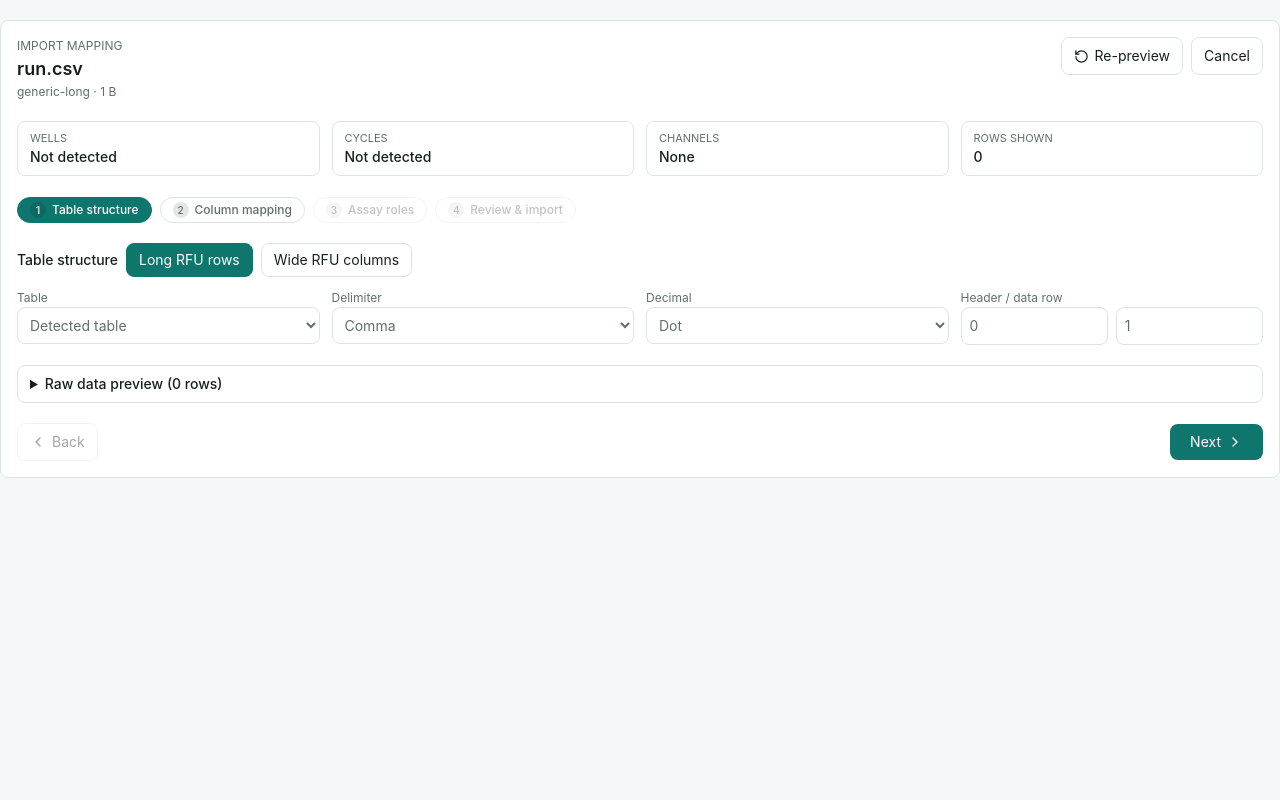
ImportMappingWizard (guided flow) › blocks Next on step 2 when required columns are unmapped
Click the button with test id "wizard-next" at point(1217, 442), box [1170,424,1263,460]
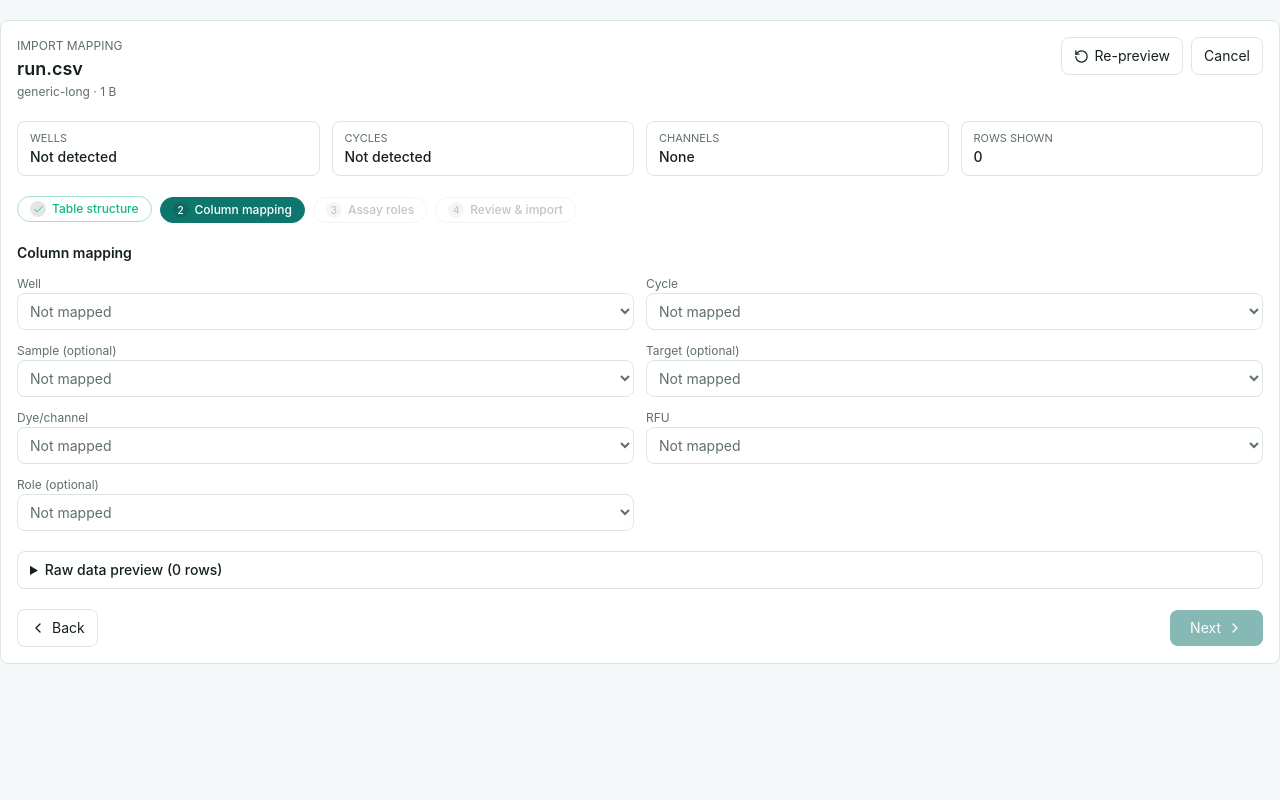
Now the button with test id "wizard-next" is disabled, box [1170,610,1263,646]
